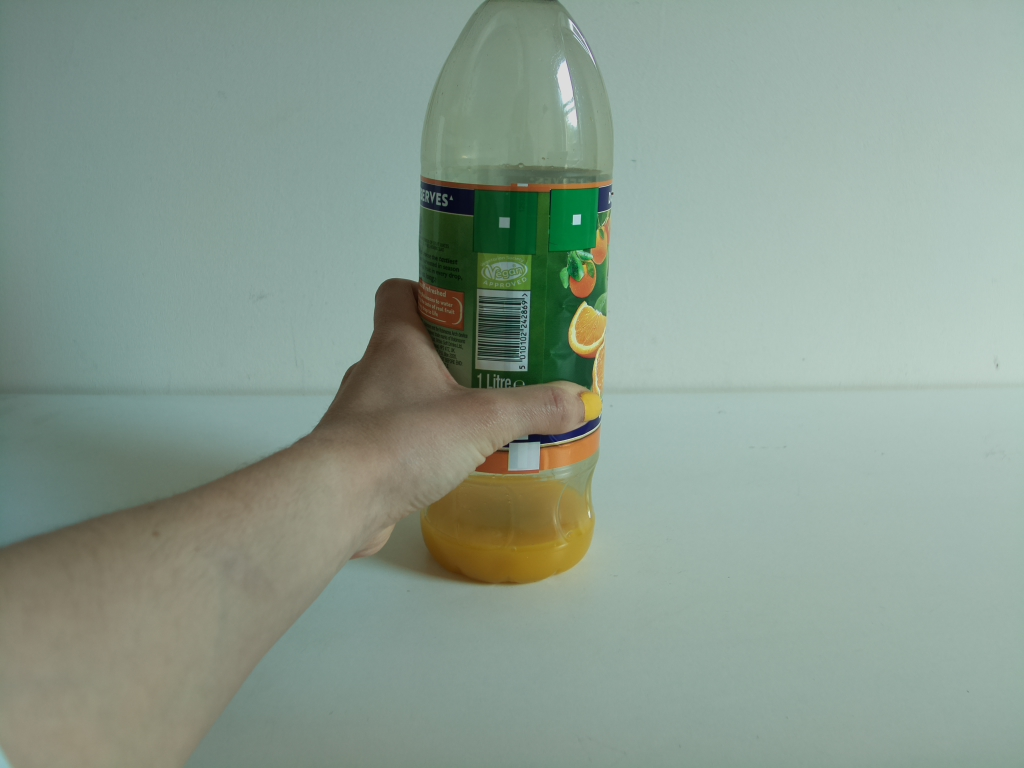juice: (419, 1, 622, 594)
